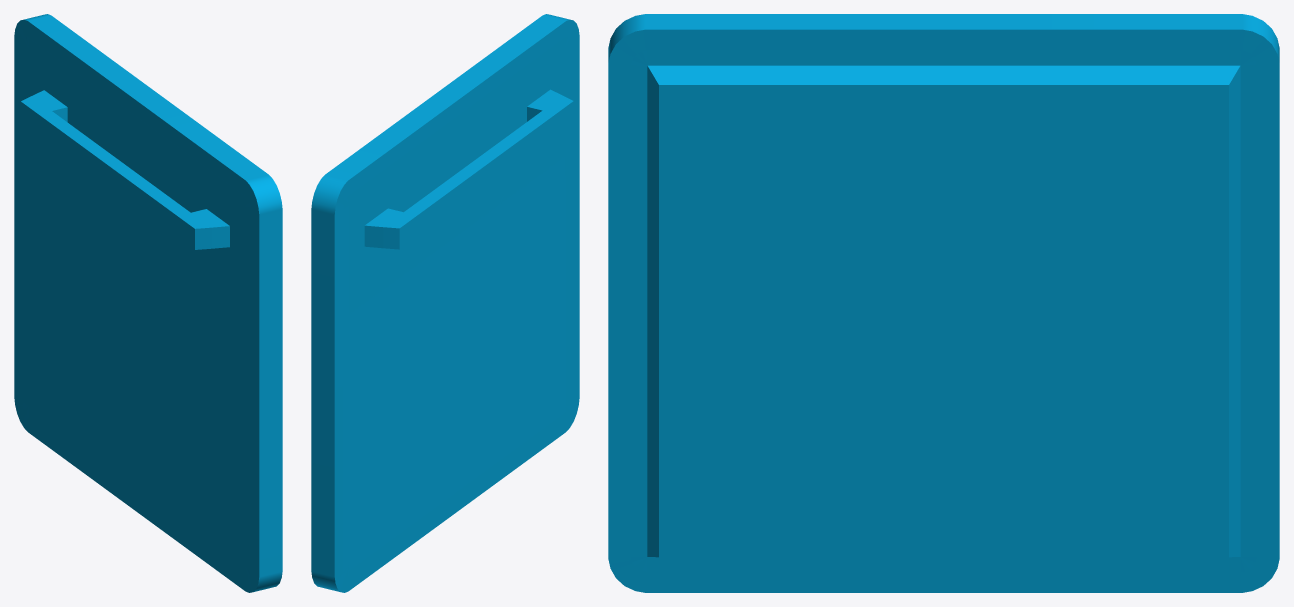
The model's file is Restaurant_Electric_Oven_Door_Lod0.fbx.
3 renders of one model, left to right at view 1: azimuth 30°, elevation 25°; view 2: azimuth 150°, elevation 25°; view 3: azimuth 270°, elevation 25°, orthographic. The views are drawn at different scales.
Parts seen in each view (by area): view 1: Restaurant_Electric_Oven_Door_Lod0; view 2: Restaurant_Electric_Oven_Door_Lod0; view 3: Restaurant_Electric_Oven_Door_Lod0.
Part boxes in pixels (x1,y1,x2,y2): Restaurant_Electric_Oven_Door_Lod0: (14, 14, 282, 592); Restaurant_Electric_Oven_Door_Lod0: (311, 14, 579, 592); Restaurant_Electric_Oven_Door_Lod0: (608, 14, 1279, 592).
Bounding box in the file's own units: 8.53 × 49.79 × 53.76.
